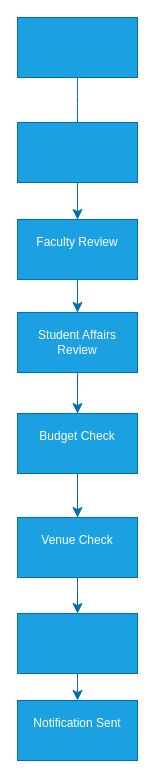
This 155x778 diagram has some shape labels left out. Each missing label, with the box of its shape:
Automatic Validation: (16, 122, 138, 182)
Final Approval: (16, 612, 138, 674)
Student Submission: (16, 16, 138, 78)
